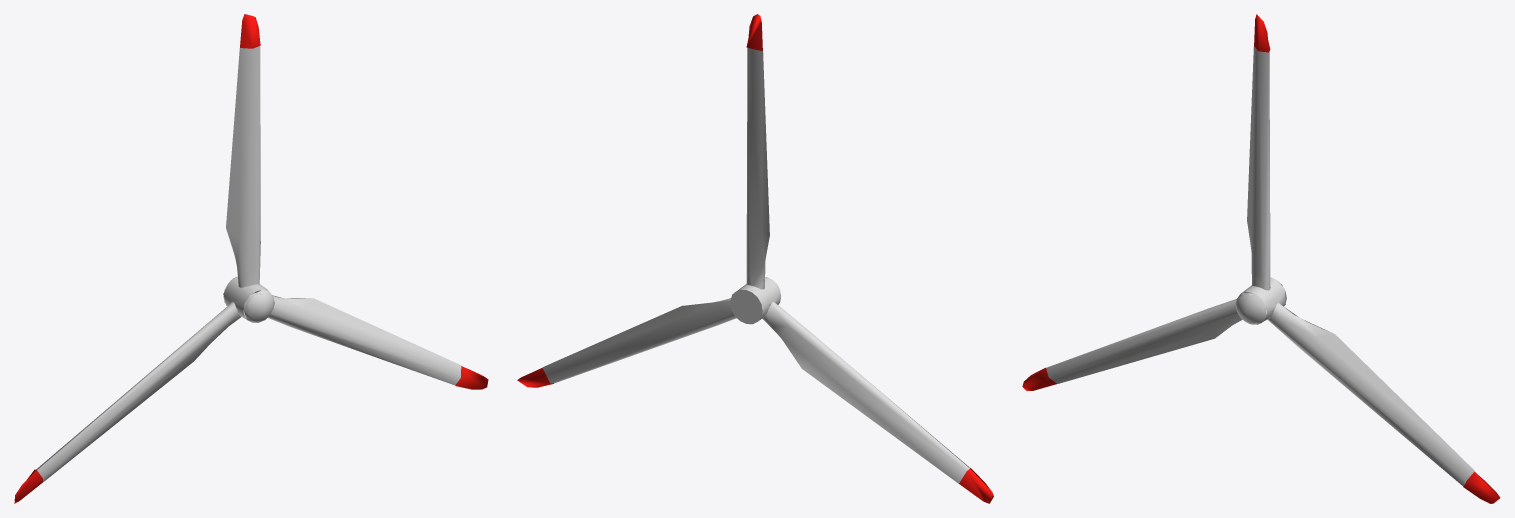
Rendered from Windturbine.fbx.
3 renders of one model, left to right at view 1: azimuth 30°, elevation 25°; view 2: azimuth 150°, elevation 25°; view 3: azimuth 330°, elevation 25°, orthographic.
Visible parts, largest first — view 1: Windturbine_Blades_Cube.001, Windturbine_Blades_Cube.002; view 2: Windturbine_Blades_Cube.001, Windturbine_Blades_Cube.002; view 3: Windturbine_Blades_Cube.001, Windturbine_Blades_Cube.002.
Part boxes in pixels (x1,y1,x2,y2): Windturbine_Blades_Cube.001: (36,46,465,481); Windturbine_Blades_Cube.002: (14,14,488,503); Windturbine_Blades_Cube.001: (542,48,969,483); Windturbine_Blades_Cube.002: (517,14,993,503); Windturbine_Blades_Cube.001: (1046,46,1480,486); Windturbine_Blades_Cube.002: (1022,14,1500,503).
Size of the model in its own units: 5835 by 5082 by 527.
